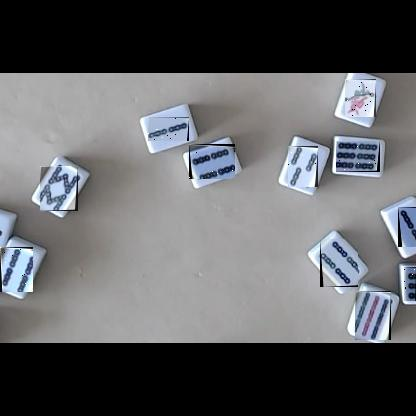1s: (345, 79, 376, 117)
2s: (148, 117, 189, 141), (398, 207, 416, 247)
3s: (288, 146, 318, 187)
4s: (320, 239, 358, 287), (189, 144, 235, 179), (0, 247, 33, 292)
6s: (336, 141, 380, 172), (404, 267, 416, 301)
8s: (40, 166, 78, 211)
9s: (355, 291, 391, 340)
